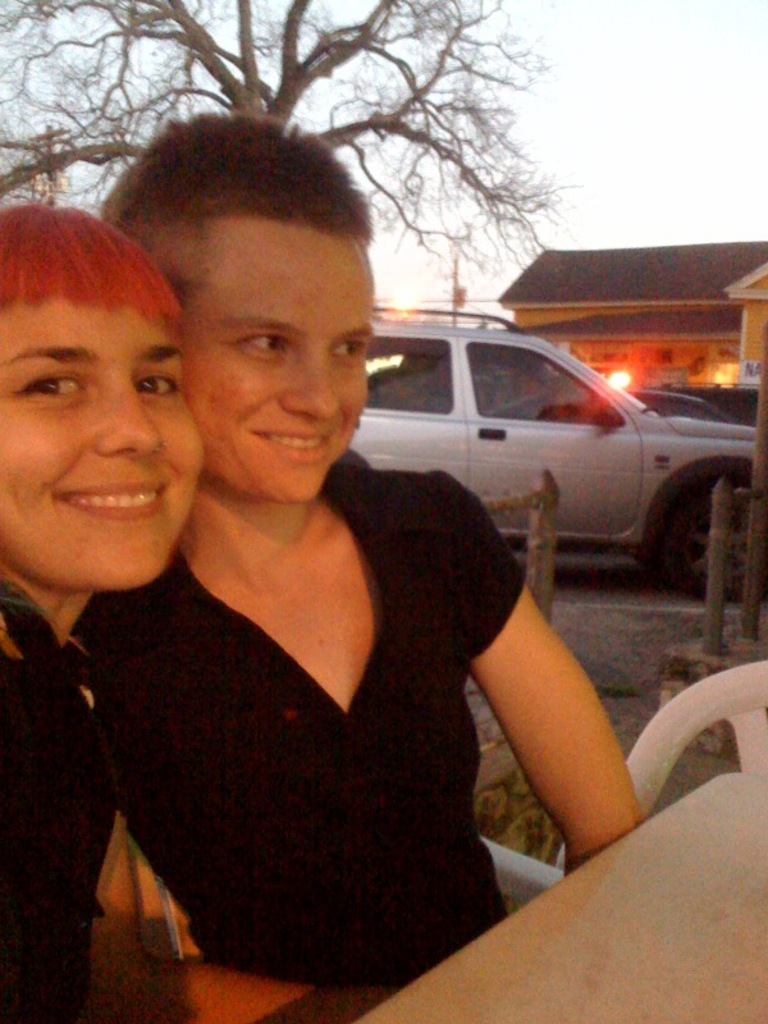car: (350, 314, 759, 597)
